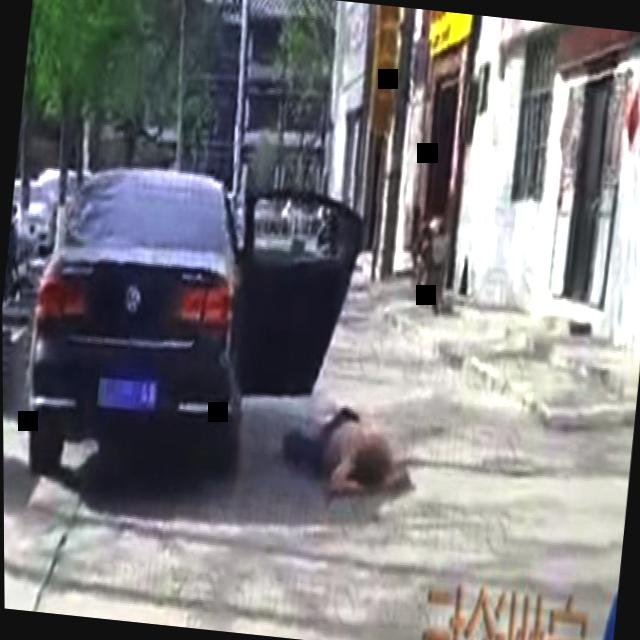Fall-Detected: (267, 372, 422, 509)
